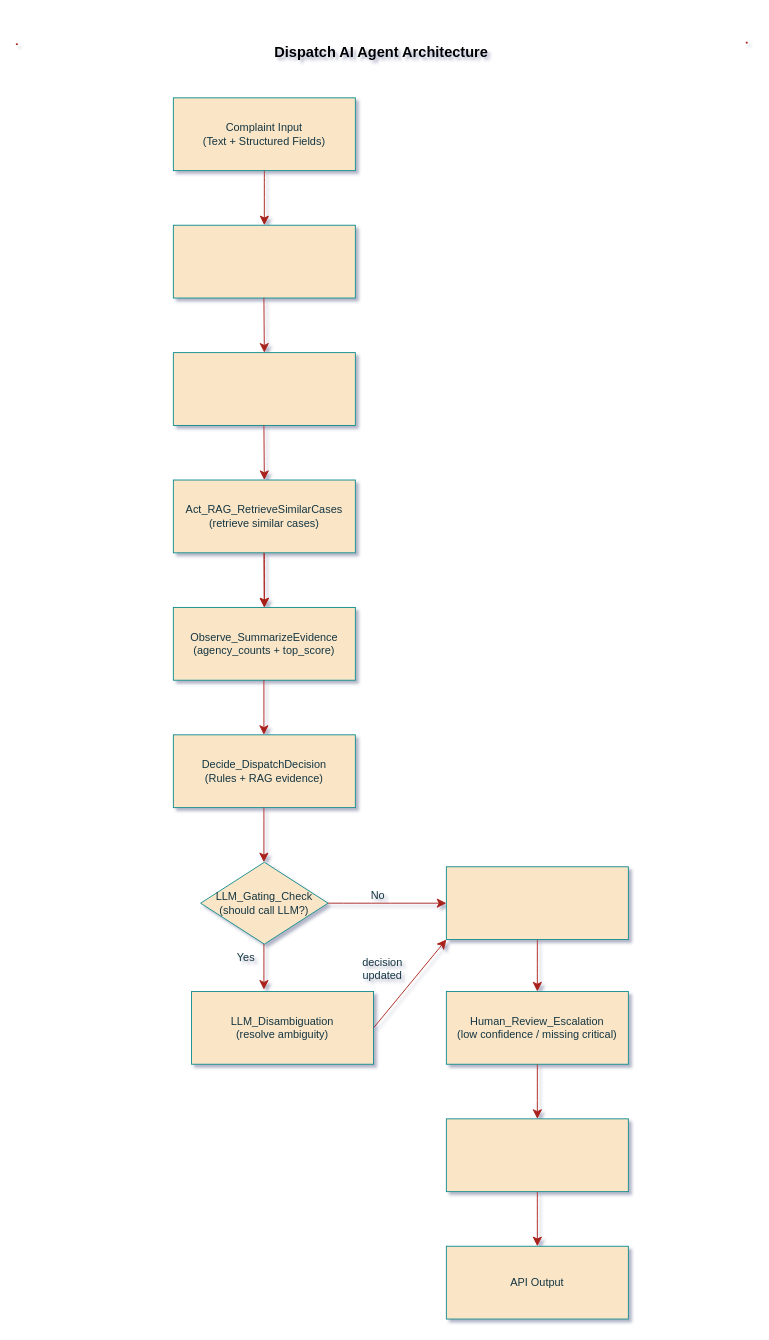
This 769x1340 diagram has some shape labels left out. Here are the shapes that lost their labels. From the top down, the box of each, then its label:
(172, 224, 355, 298): Preprocessing_ContextExtraction (classify, extract location/time, urgency guess)
(172, 352, 355, 425): Reason_UnderstandComplaint (intent + missing_info)
(445, 866, 628, 940): Confidence_Gating (confidence threshold)
(445, 1118, 628, 1192): Response_Generator (format final output)
